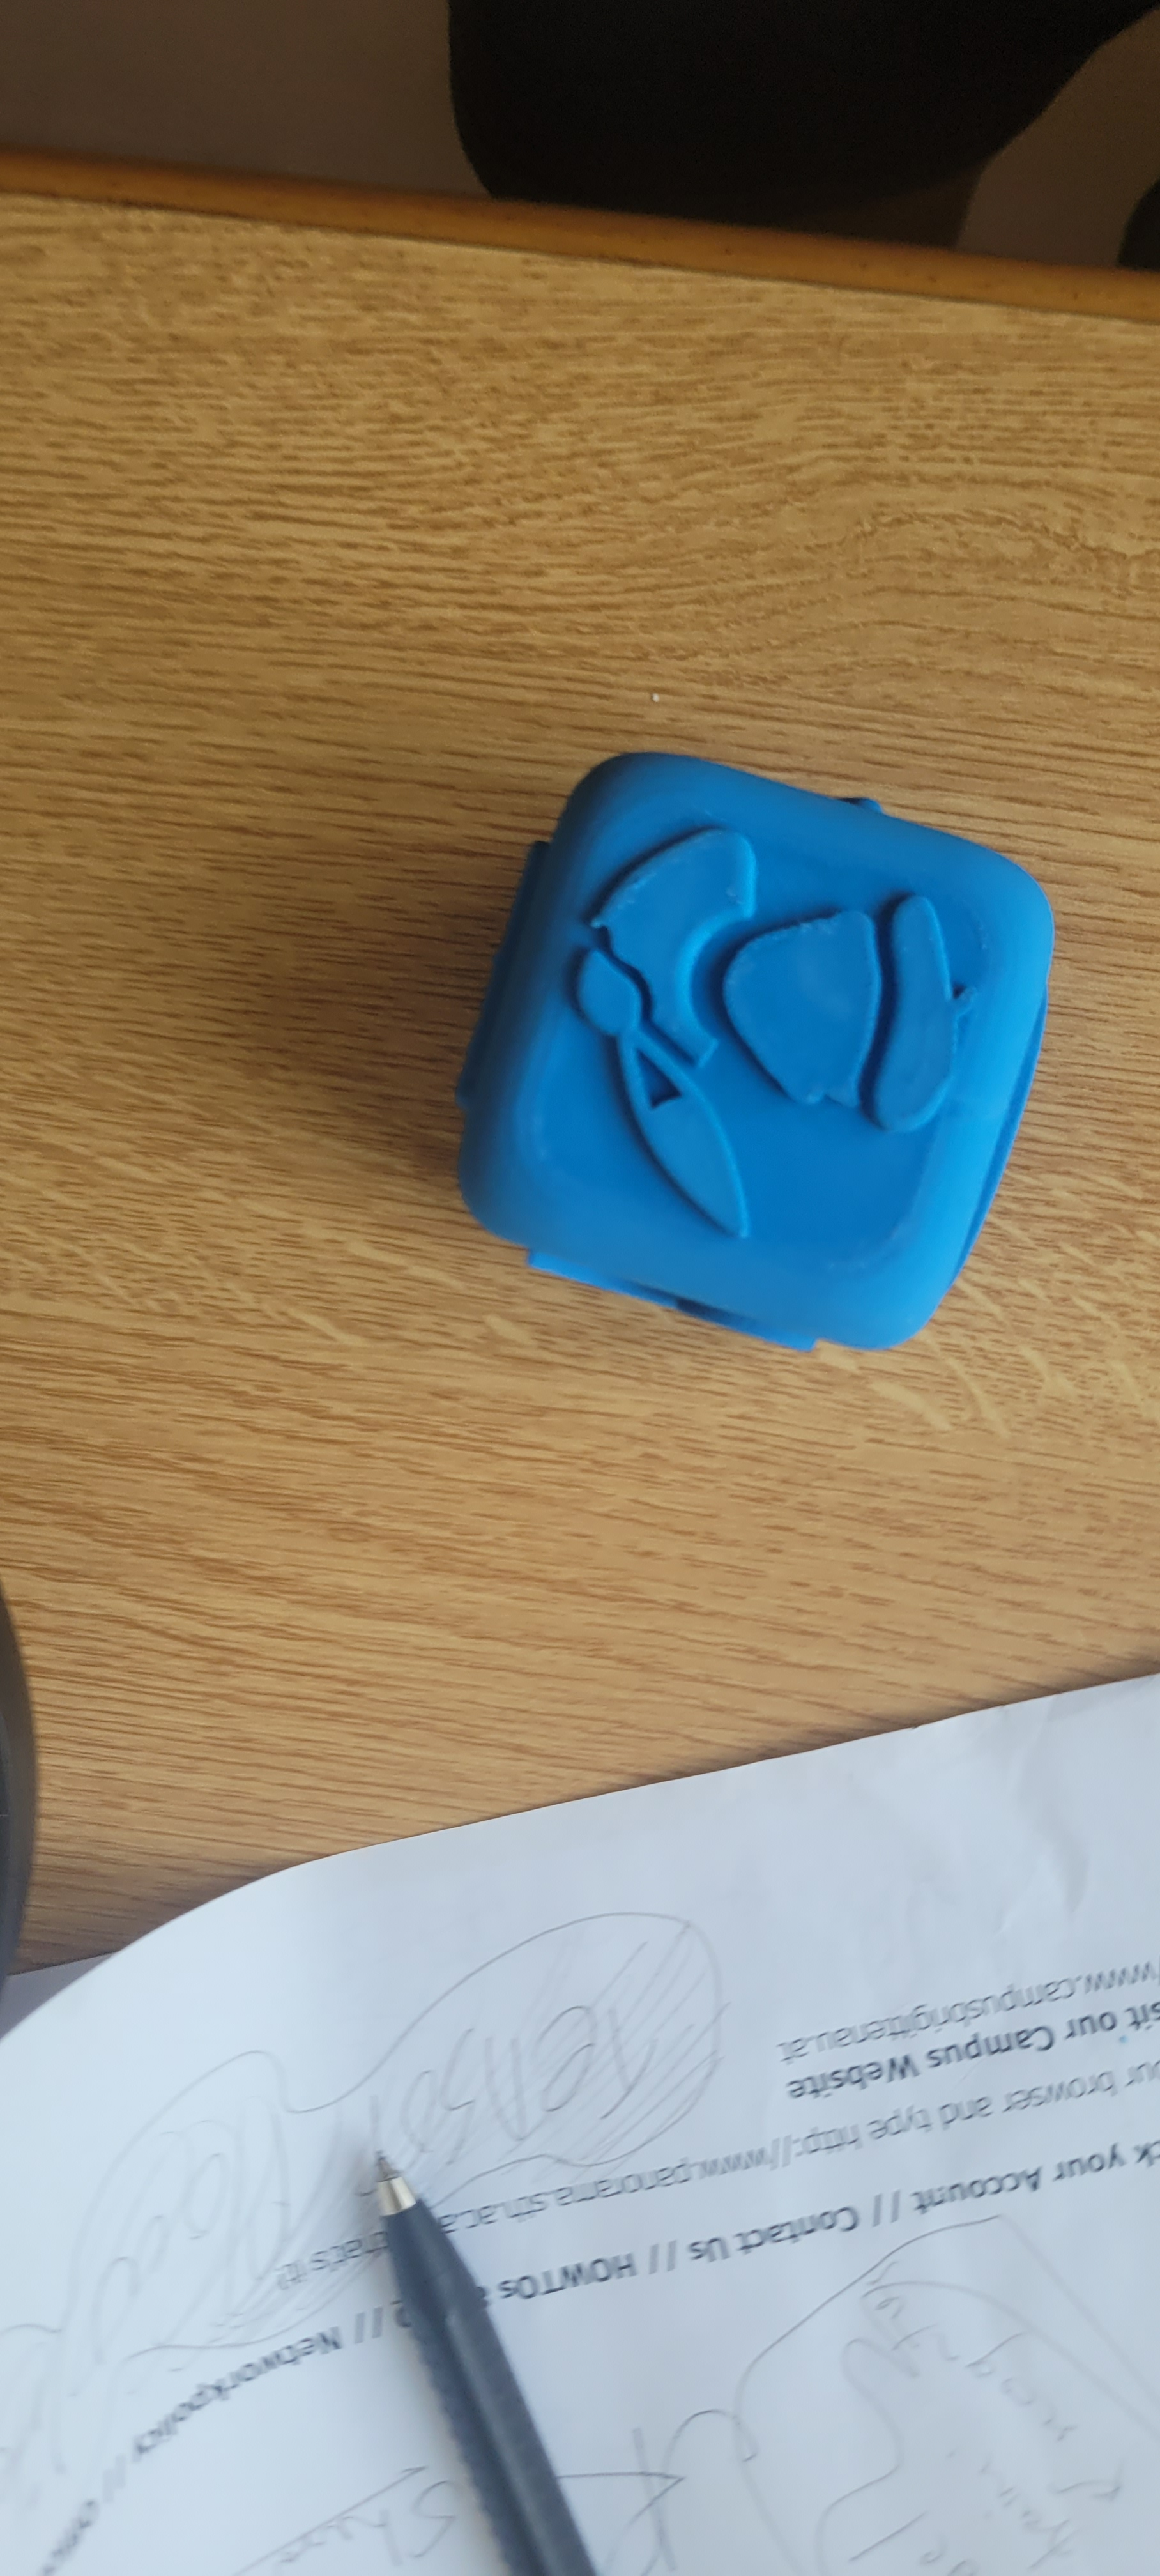Artist_Info: (549, 740, 1002, 1308)
